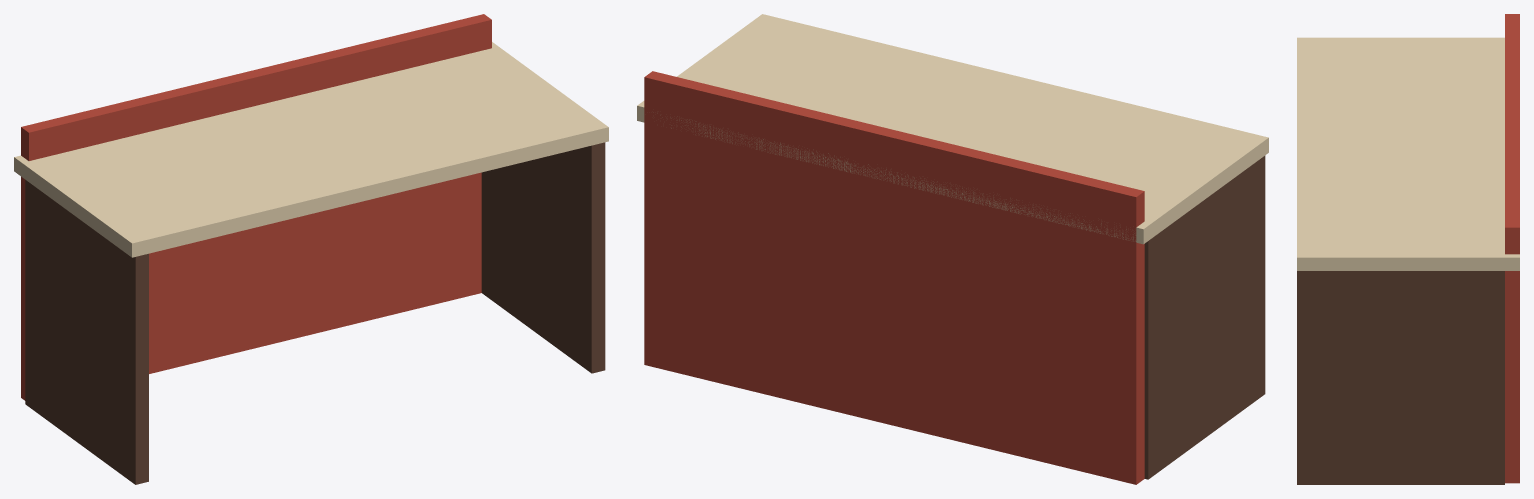
File: pizza-shop.glb
3 views of the same model, side by side, from view 1: azimuth 30°, elevation 25°; view 2: azimuth 150°, elevation 25°; view 3: azimuth 270°, elevation 25° (orthographic). The views are drawn at different scales.
Parts seen in each view (by area): view 1: Canopy, Feature wall, Column, Column.001; view 2: Feature wall, Canopy, Column; view 3: Canopy, Column.001, Feature wall.
Boxes of the visible parts, bbox=[...] form: Canopy: bbox=[14, 42, 608, 257]; Feature wall: bbox=[21, 14, 491, 400]; Column: bbox=[25, 180, 148, 484]; Column.001: bbox=[481, 142, 605, 373]; Feature wall: bbox=[644, 71, 1144, 484]; Canopy: bbox=[637, 14, 1268, 244]; Column: bbox=[1144, 155, 1265, 479]; Canopy: bbox=[1297, 37, 1519, 270]; Column.001: bbox=[1297, 271, 1504, 484]; Feature wall: bbox=[1505, 14, 1519, 483].
Bounding box in the file's own units: 7 × 3.8 × 3.
